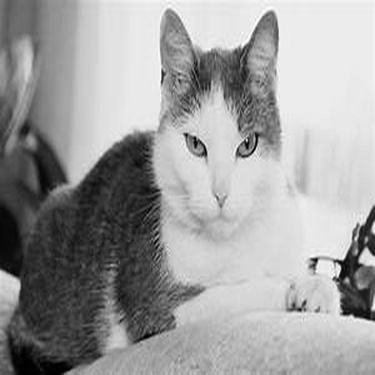cat: (12, 4, 341, 370)
